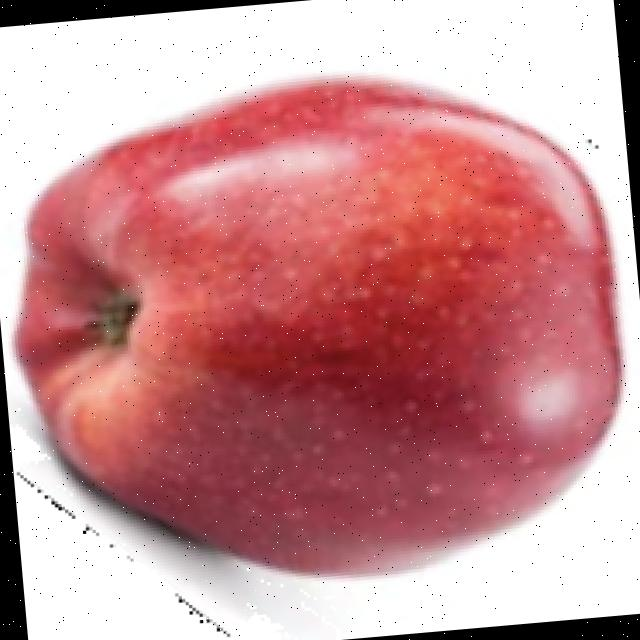apple: (6, 66, 633, 637)
